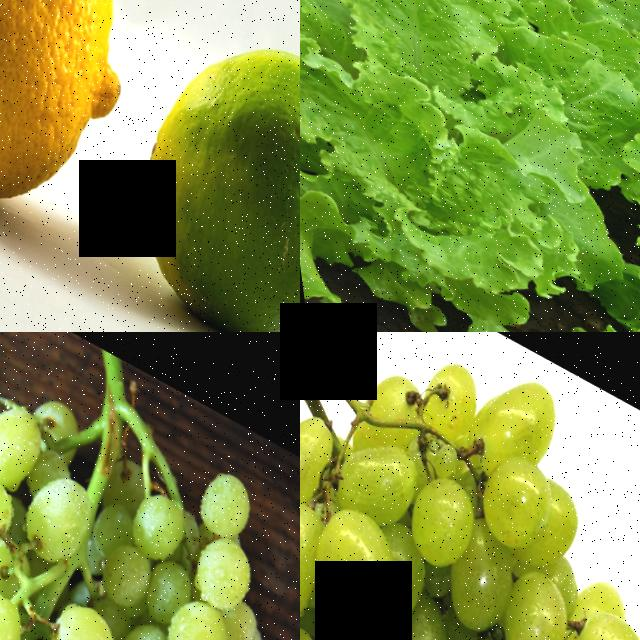grapes: (300, 332, 640, 640), (0, 332, 300, 640)
lemon: (57, 0, 300, 332), (0, 0, 202, 268)
lettuce: (300, 0, 640, 332), (487, 89, 640, 332), (300, 0, 640, 75)
